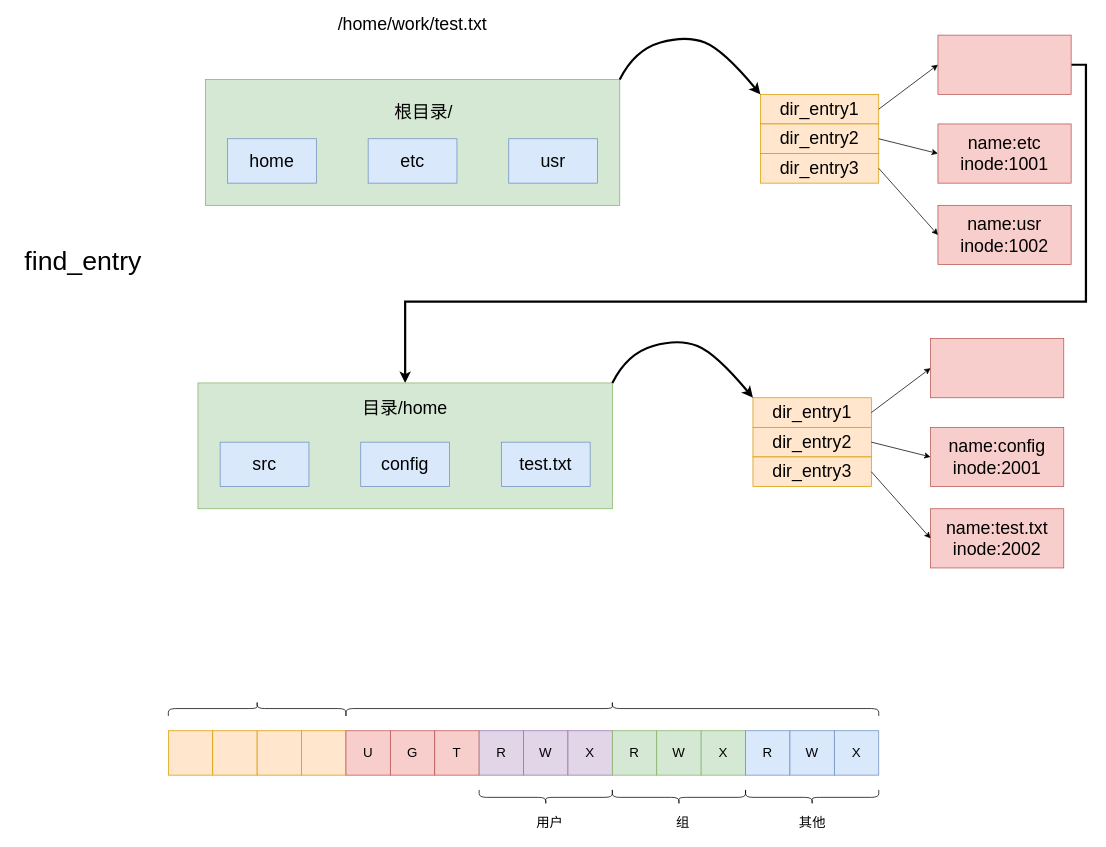
This 1106x847 diagram has some shape labels left out. The shapes that lost their labels are listed below. From the top down, each one's box as (x1, y1, x2, y2) in pixels, then its label:
(937, 34, 1071, 94): name:home inode:1000
(930, 338, 1064, 398): name:src inode:2000
(168, 700, 346, 716): 文件类型
(345, 700, 879, 716): 权限
